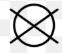do_not_dry_clean: (9, 2, 59, 47)
